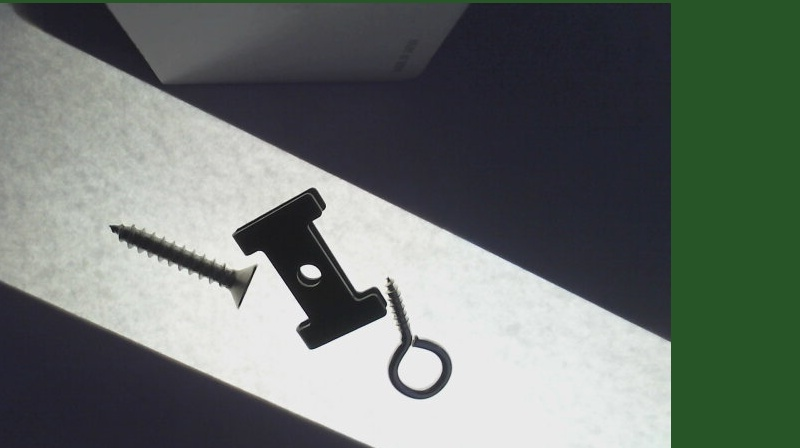O001: (383, 272, 454, 401)
O002: (232, 184, 387, 351)
S001: (111, 223, 255, 306)
